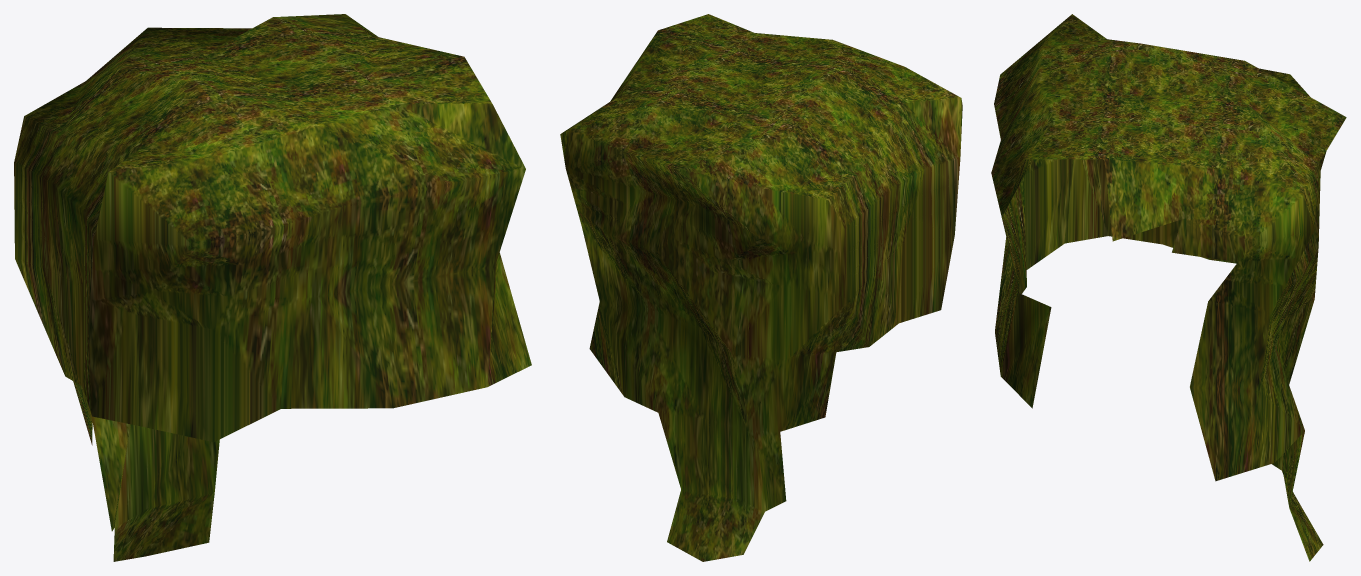
Rendered from TROLLHOLE02_RM_PSURF94.fbx.
3 renders of one model, left to right at view 1: azimuth 30°, elevation 25°; view 2: azimuth 150°, elevation 25°; view 3: azimuth 270°, elevation 25°, orthographic. The views are drawn at different scales.
Visible parts, largest first — view 1: TROLLHOLE02_RM_PSURF94; view 2: TROLLHOLE02_RM_PSURF94; view 3: TROLLHOLE02_RM_PSURF94.
Boxes of the visible parts, left/top/right/bottom form: TROLLHOLE02_RM_PSURF94: left=14, top=14, right=531, bottom=561; TROLLHOLE02_RM_PSURF94: left=560, top=14, right=962, bottom=561; TROLLHOLE02_RM_PSURF94: left=991, top=14, right=1346, bottom=561.
Bounding box in the file's own units: 72364 × 92760 × 62616.
Materials: 1 (1 with a texture image).
